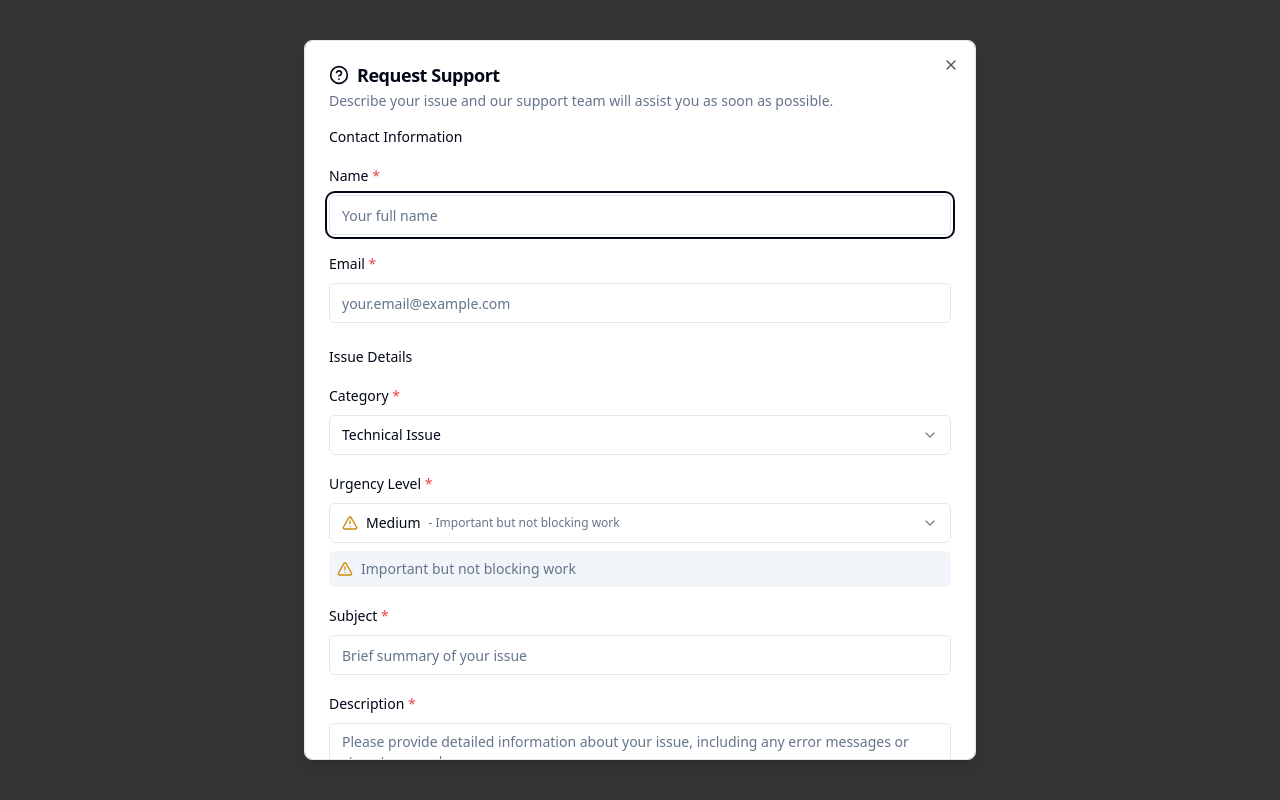
Test: Support and Sales Modals › SupportRequestModal › displays success message after submission
Type "Jane Smith" into the field labelled "Name *" at (640, 215), box [329,195,951,235]
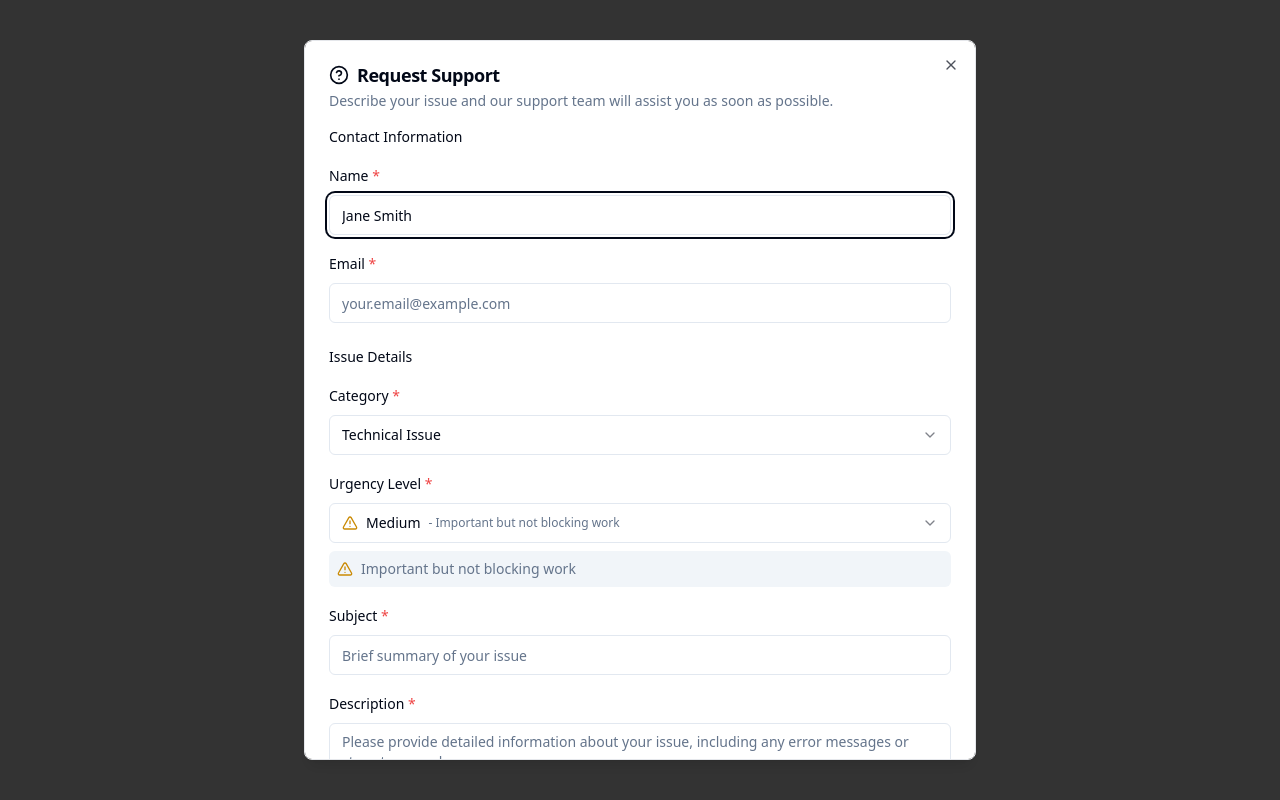
Type "jane@example.com" into the field labelled "Email *" at (640, 303), box [329,283,951,323]
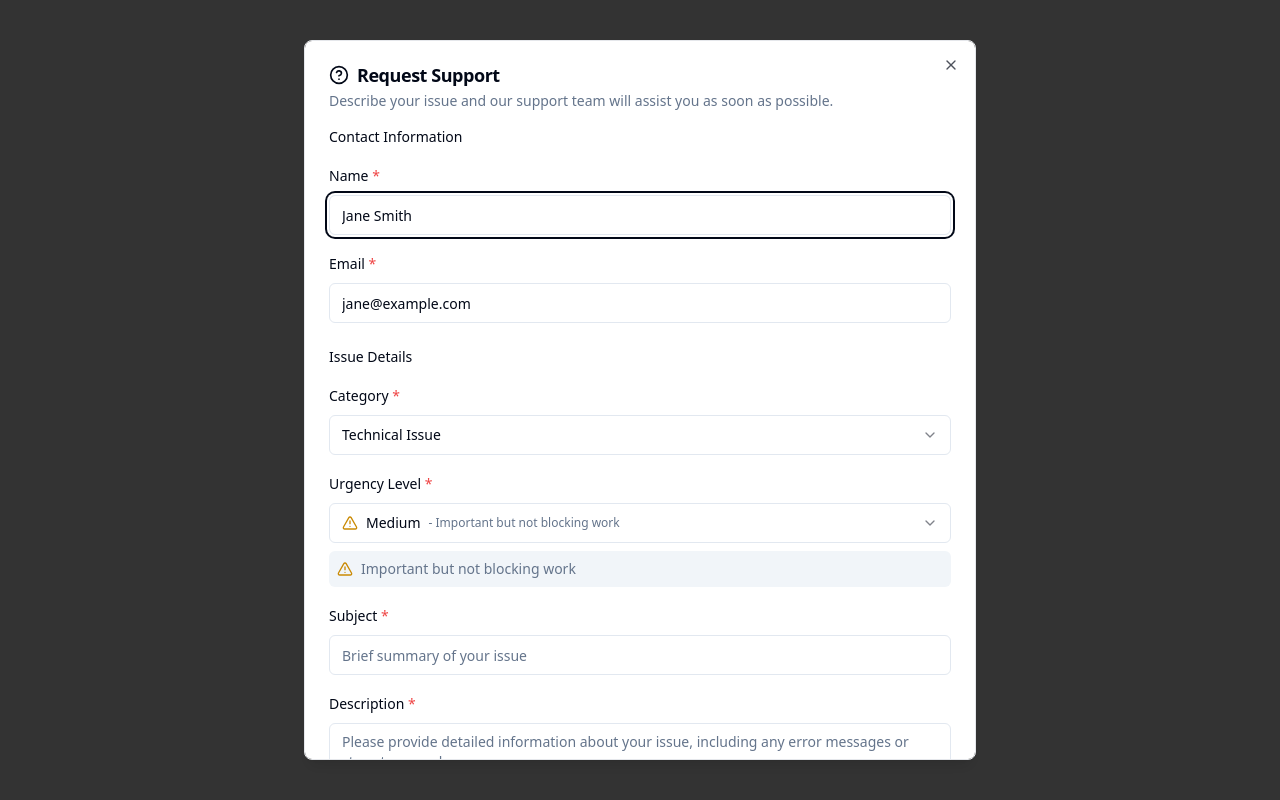
Type "Login Issue" into the field labelled "Subject *" at (640, 655), box [329,635,951,675]
(page scrolled)
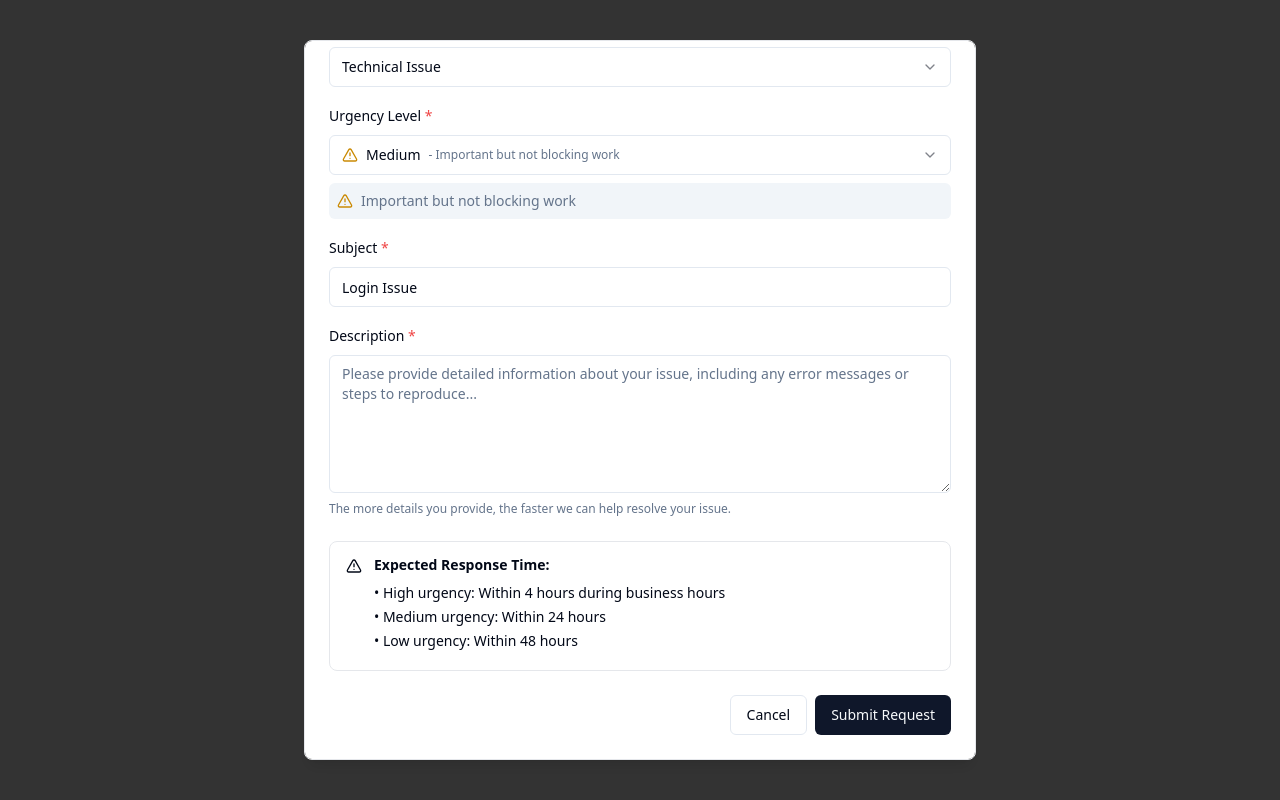
Replace the text in the text box labelled "Description *" with "I cannot log in to my account. Getting error 500." at (640, 424), box [329,355,951,493]
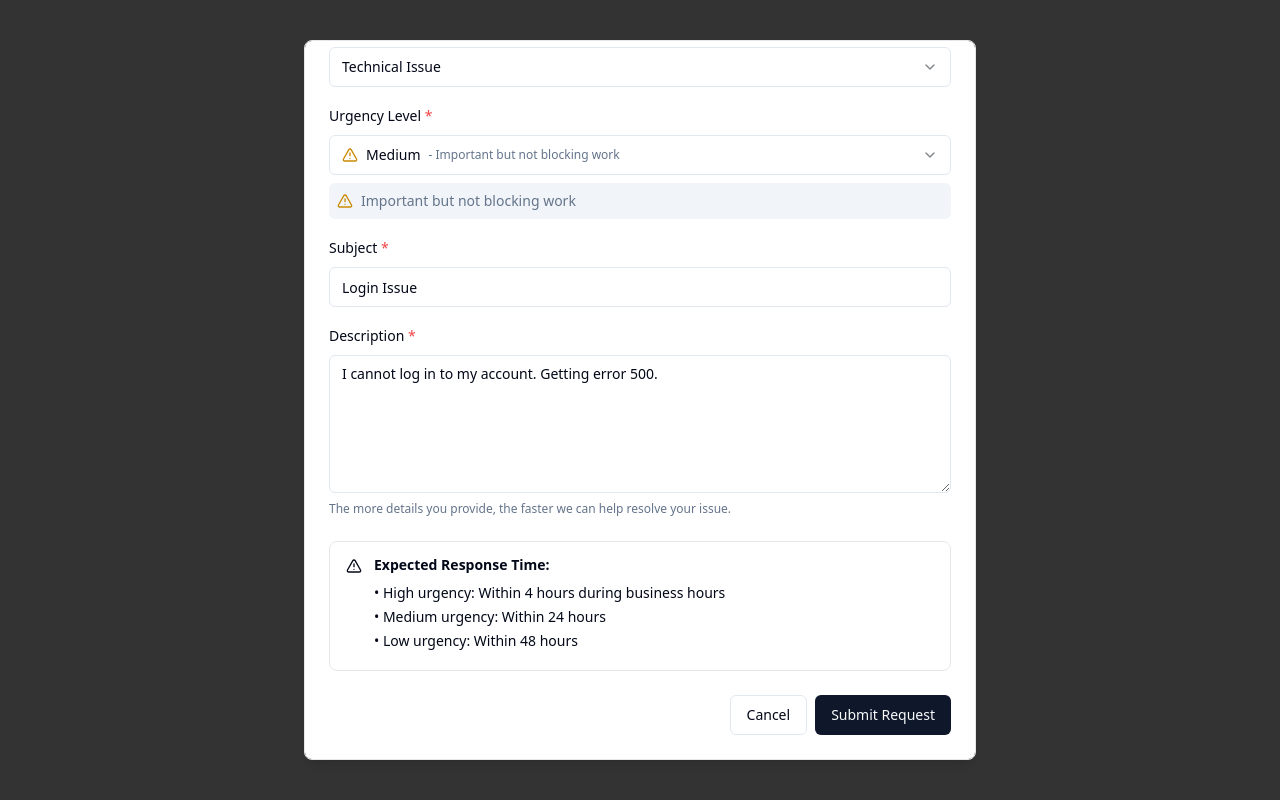
Click the button "Submit Request" at (883, 715), box [815,695,951,735]
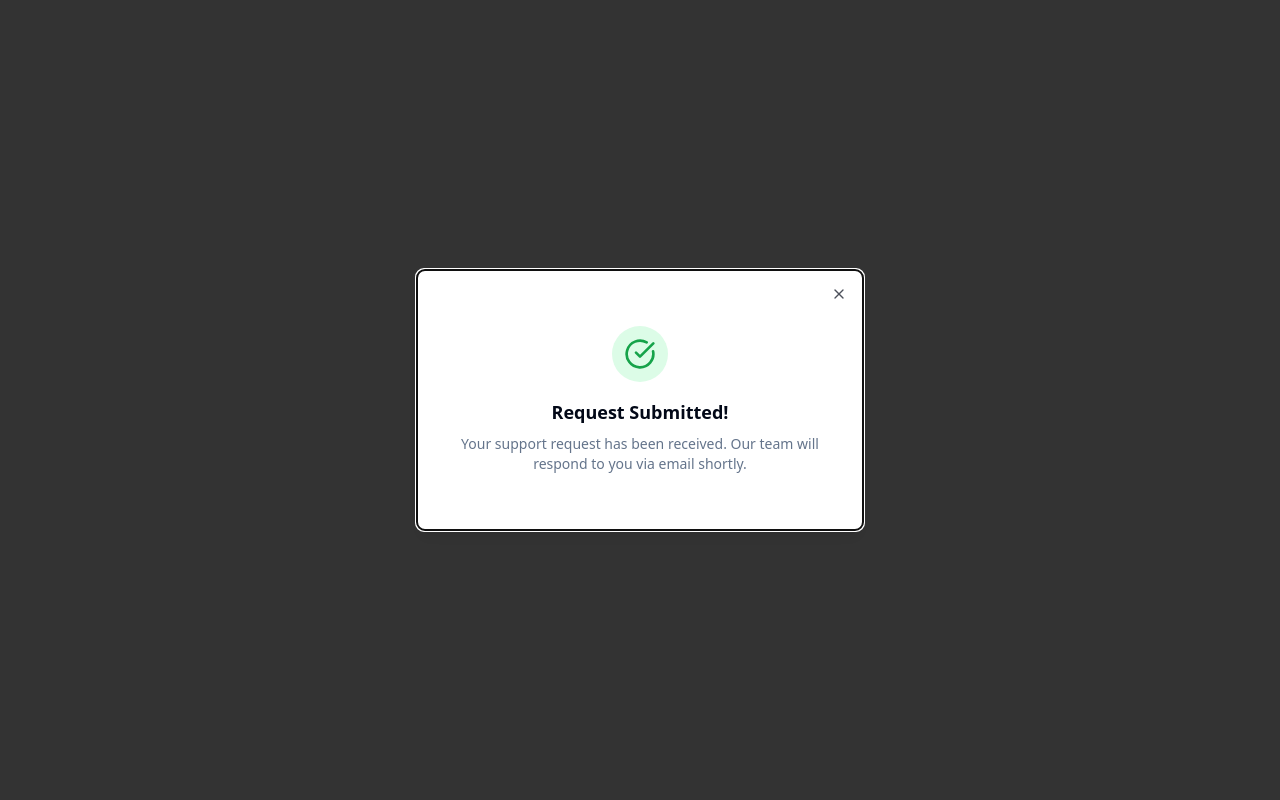
expect the heading "Request Submitted!" is shown: met, box [552,400,728,424]
